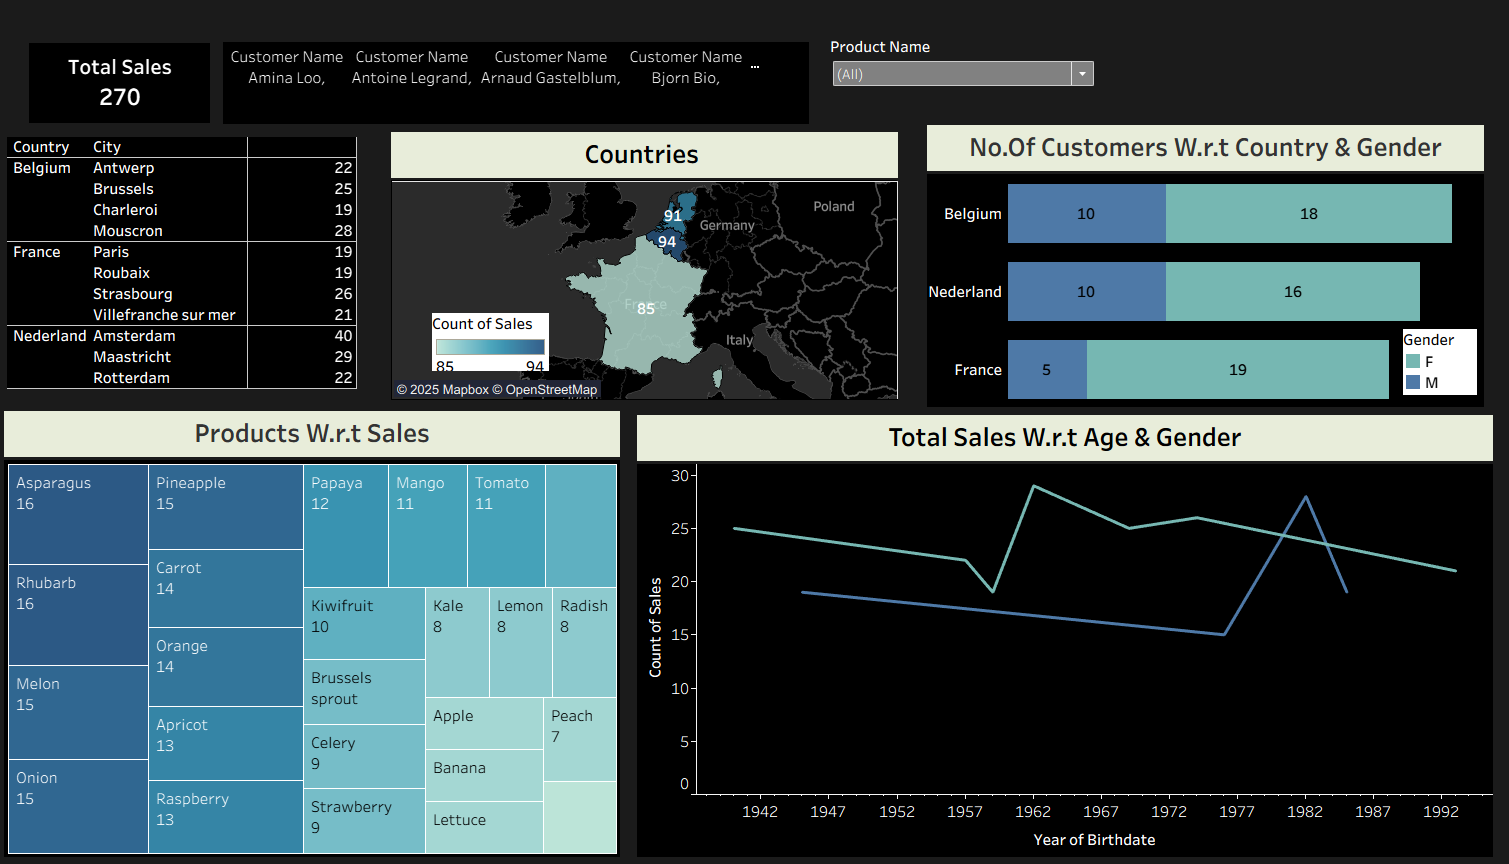

What the dashboard file says about the page in this screenshot:
{"tool":"tableau","page":{"name":"Dashboard 1","canvas":[1550,900],"ordinal":0},"visuals":[{"type":"filter","title":"Customer Names","param":"[federated.1k0e1ag0fy7ebo16drrat0paxjd4].[none:ProductName:nk]","box":[830.8,36.9,266.7,79.2]},{"type":"worksheet","title":"Customer Names","mark":"Automatic","box":[224.2,43.2,585.8,81.9]},{"type":"worksheet","title":"Total Sales","mark":"Automatic","box":[30,44.1,180.8,80.1]},{"type":"worksheet","title":"No.Of Customers W.r.t Country & Gender","mark":"Automatic","rows":["Country"],"cols":["PK_Customer"],"box":[927.9,125.6,557,282.6]},{"type":"worksheet","title":"Countries ","mark":"Automatic","box":[391.6,132.9,507.4,267.9]},{"type":"worksheet","title":"Table","mark":"Automatic","rows":["Country","City"],"box":[8.3,138.1,369.9,269]},{"type":"legend","title":"Countries ","param":"[federated.1k0e1ag0fy7ebo16drrat0paxjd4].[__tableau_internal_object_id__].[cnt:S","box":[433,314,116.8,57.6]},{"type":"legend","title":"No.Of Customers W.r.t Country & Gender","param":"[federated.1k0e1ag0fy7ebo16drrat0paxjd4].[none:Gender:nk]","box":[1404.3,329.7,74.4,65.9]},{"type":"worksheet","title":"Products W.r.t Sales","mark":"Automatic","box":[5,412,616,446]},{"type":"worksheet","title":"Total Sales W.r.t Age & Gender","mark":"Automatic","rows":["Sales_E54108CE4A5D43C19624874FCA8A06A5"],"cols":["Birthdate"],"box":[638,416,856,442]}]}

Visuals, with their boxes in screenshot pixels (x1, y1, x2, y2), scaled from the page's 1550x900 canvas onto the 1509x864 screenshot:
"Customer Names" filter: pyautogui.locateOnScreen(809, 35, 1068, 111)
"Customer Names" worksheet: pyautogui.locateOnScreen(218, 41, 789, 120)
"Total Sales" worksheet: pyautogui.locateOnScreen(29, 42, 205, 119)
"No.Of Customers W.r.t Country & Gender" worksheet: pyautogui.locateOnScreen(903, 121, 1446, 392)
"Countries " worksheet: pyautogui.locateOnScreen(381, 128, 875, 385)
"Table" worksheet: pyautogui.locateOnScreen(8, 133, 368, 391)
"Countries " legend: pyautogui.locateOnScreen(422, 301, 535, 357)
"No.Of Customers W.r.t Country & Gender" legend: pyautogui.locateOnScreen(1367, 317, 1440, 380)
"Products W.r.t Sales" worksheet: pyautogui.locateOnScreen(5, 396, 605, 824)
"Total Sales W.r.t Age & Gender" worksheet: pyautogui.locateOnScreen(621, 399, 1454, 824)
